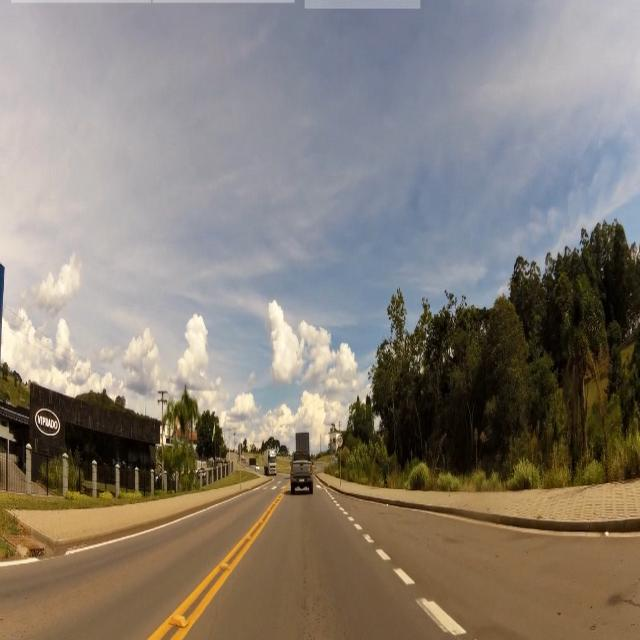R-19: (336, 434, 344, 449)
